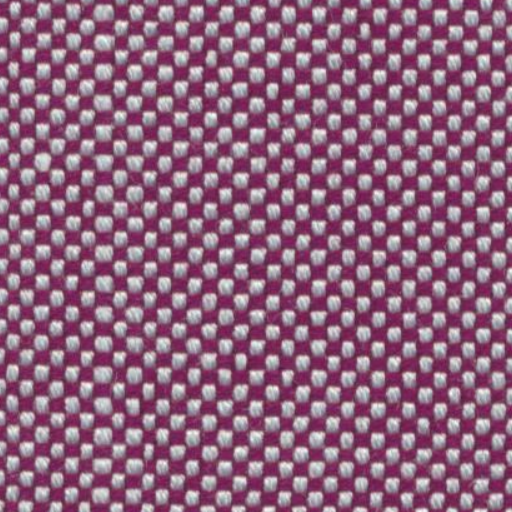TuoSha: (68, 25, 132, 492)
